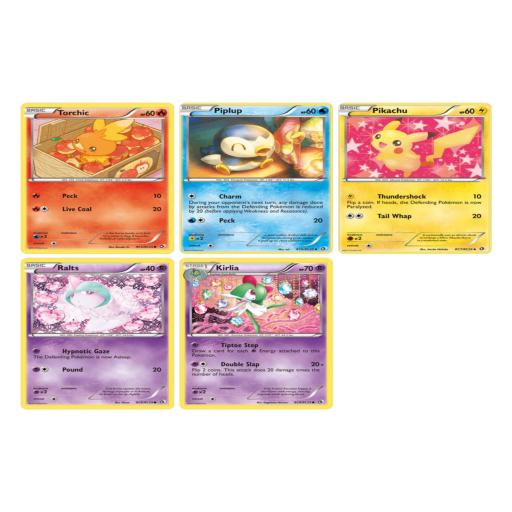card: (20, 260, 175, 413), (179, 104, 331, 257), (339, 105, 492, 257), (21, 106, 175, 257), (181, 261, 331, 413)
